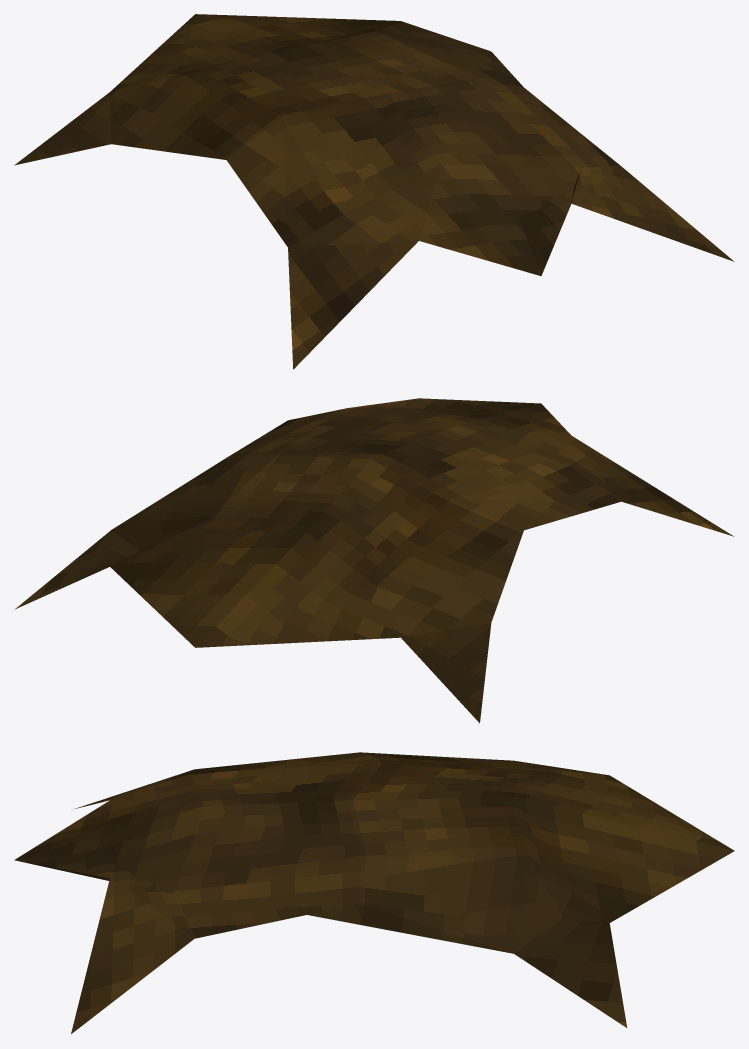
The model's file is Fur.glb.
3 renders of one model, top to bottom at view 1: azimuth 30°, elevation 25°; view 2: azimuth 150°, elevation 25°; view 3: azimuth 270°, elevation 25°, orthographic. The views are drawn at different scales.
Visible parts, largest first — view 1: Fur; view 2: Fur; view 3: Fur.
Part boxes in pixels (<box>): Fur: <box>14,14,734,369</box>; Fur: <box>14,398,733,723</box>; Fur: <box>14,752,734,1033</box>.
Bounding box in the file's own units: 0.5313 × 0.1319 × 0.6834.
Materials: 1 (1 with a texture image).
